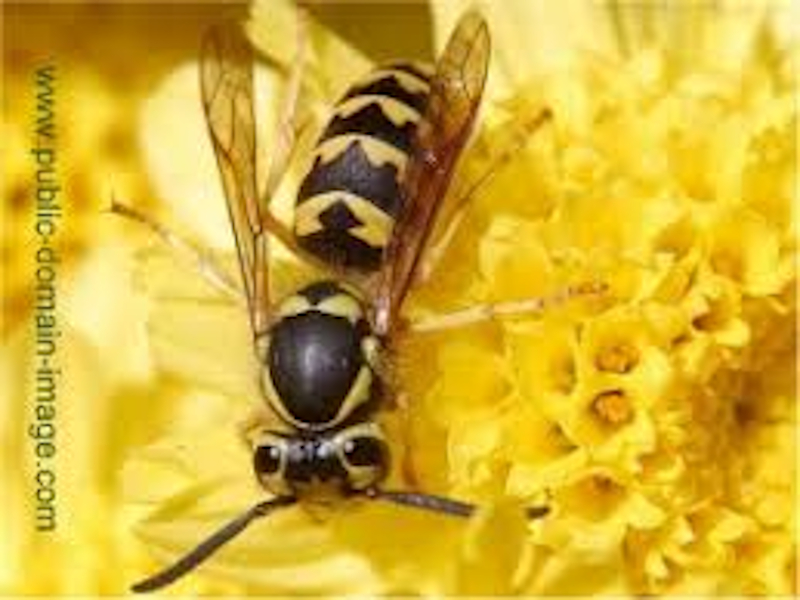chax: (135, 4, 542, 597)
